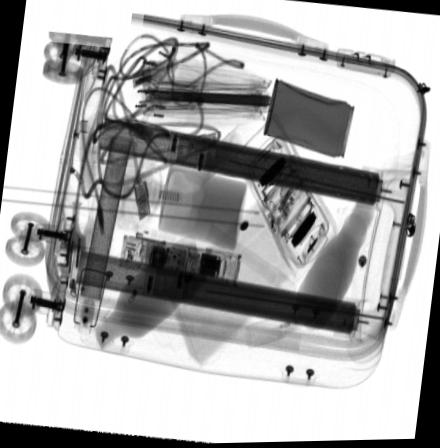Baton: (117, 234, 242, 296)
